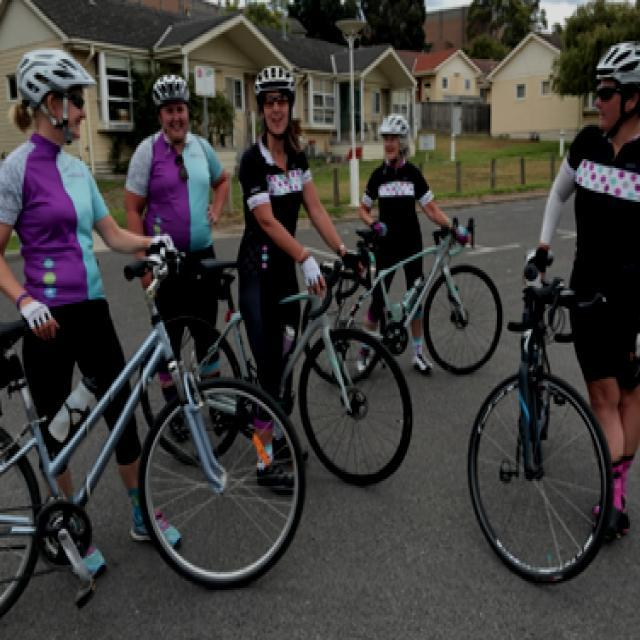Helmet: (7, 40, 94, 156), (589, 31, 640, 148), (248, 54, 303, 146), (146, 72, 201, 148), (370, 109, 416, 166)
